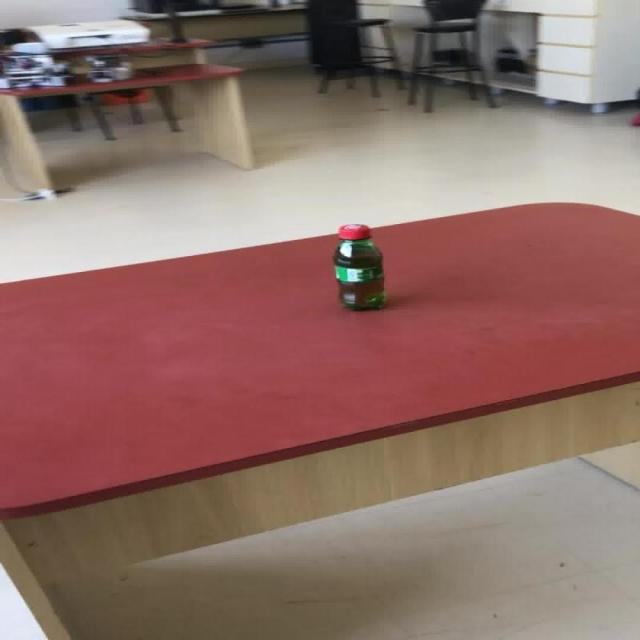Guarana: (331, 222, 386, 311)
